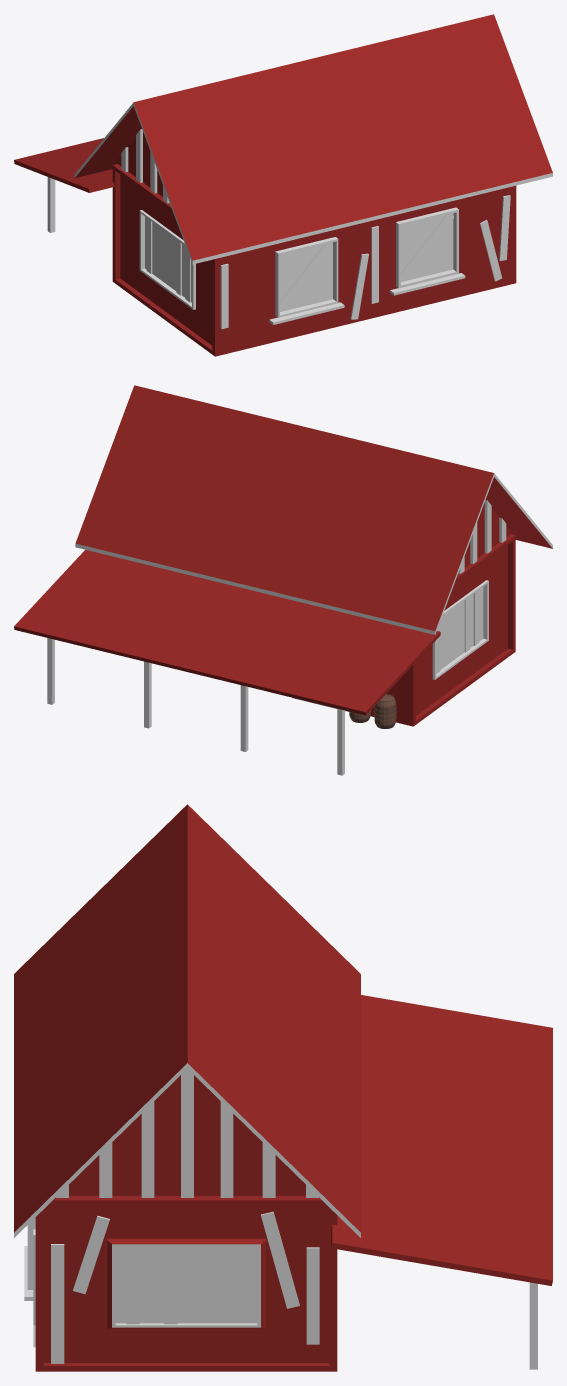
Rendered from Barn_A.fbx.
3 renders of one model, top to bottom at view 1: azimuth 30°, elevation 25°; view 2: azimuth 150°, elevation 25°; view 3: azimuth 270°, elevation 25°, orthographic. The views are drawn at different scales.
Visible parts, largest first — view 1: Cube.006, Cube.023, Cube.042, Cube.007; view 2: Cube.006, Cube.023, Cube.042, Cylinder.022, Cube.007; view 3: Cube.023, Cube.006, Cube.042, Cube.007.
Boxes of the visible parts, x1,y1,x2,y2 form: Cube.006: [74, 14, 552, 264]; Cube.023: [14, 138, 516, 356]; Cube.042: [121, 129, 510, 329]; Cube.007: [112, 132, 162, 196]; Cube.006: [75, 385, 552, 634]; Cube.023: [14, 534, 515, 775]; Cube.042: [436, 500, 506, 673]; Cylinder.022: [349, 694, 396, 728]; Cube.007: [464, 503, 512, 567]; Cube.023: [27, 995, 552, 1371]; Cube.006: [14, 804, 360, 1237]; Cube.042: [24, 1069, 319, 1363]; Cube.007: [69, 1075, 305, 1195].
Bounding box in the file's own units: 5594 × 3323 × 4923.
